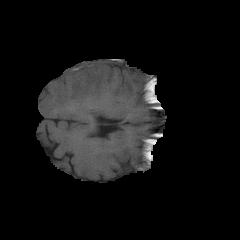glioma: (44, 64, 111, 113)
